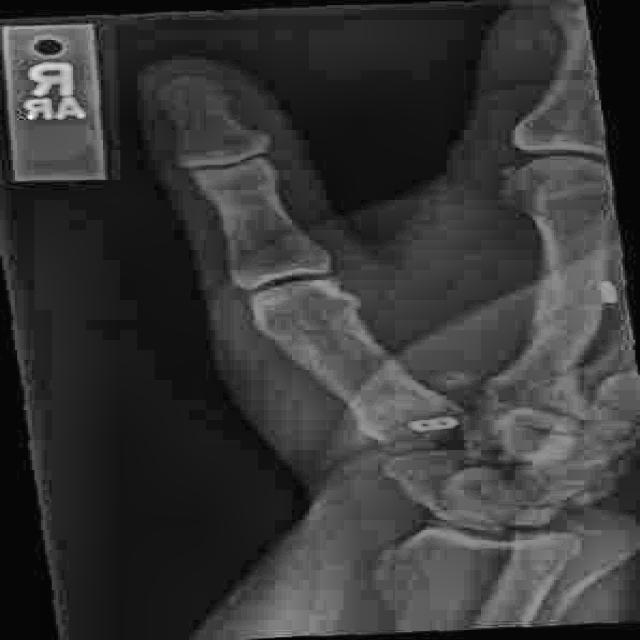fingers positive: (176, 151, 315, 231)
